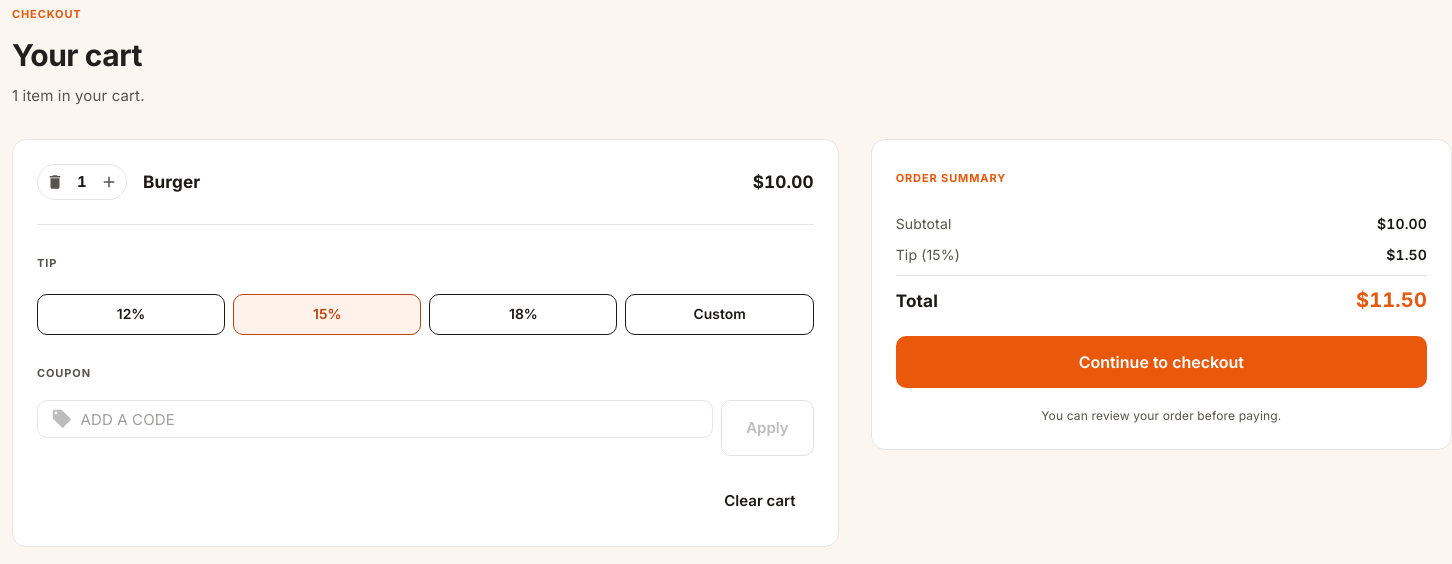
Test: CartPage › applies a valid coupon and previews the discount in the summary
This screenshot has width=1452, height=564.
Type "save10" into the field named "coupon code" at (397, 419), box [80,400,713,438]
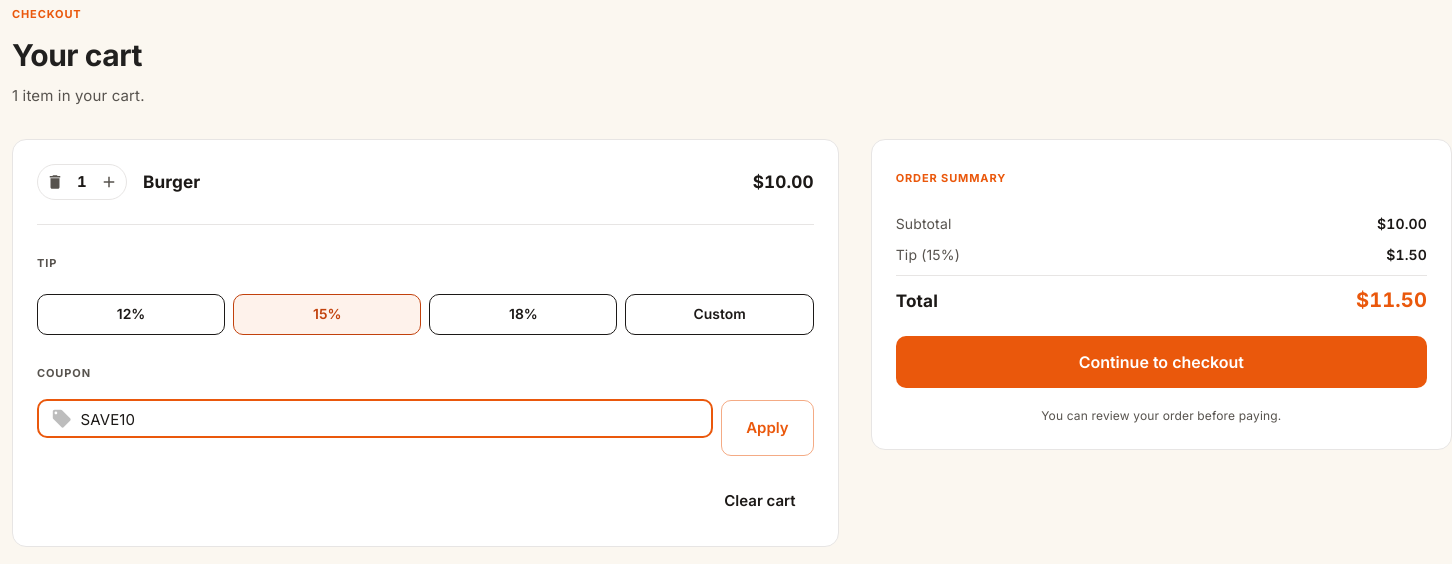
Click the button "Apply" at (767, 428), box [721,400,814,456]
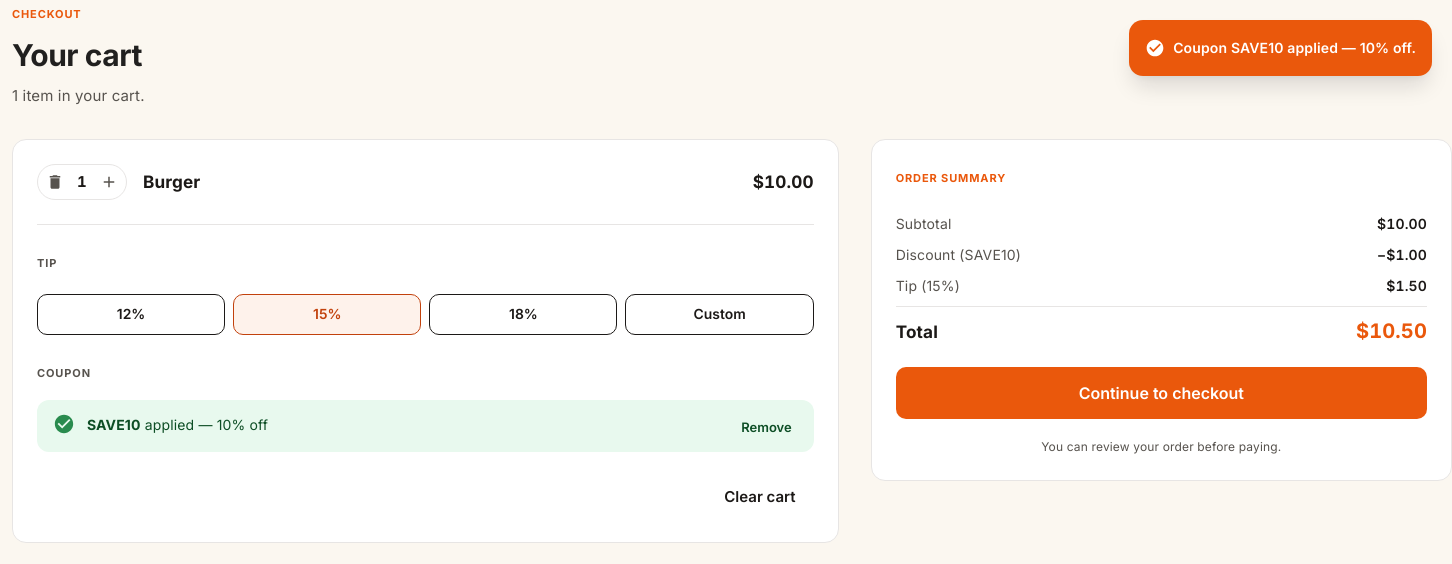
Check: the text "SAVE10" is shown, box [87,416,141,433]
Check: the text "−$1.00" is shown, box [1377,244,1427,265]
Check: the button "Remove" is shown, box [727,410,806,446]
